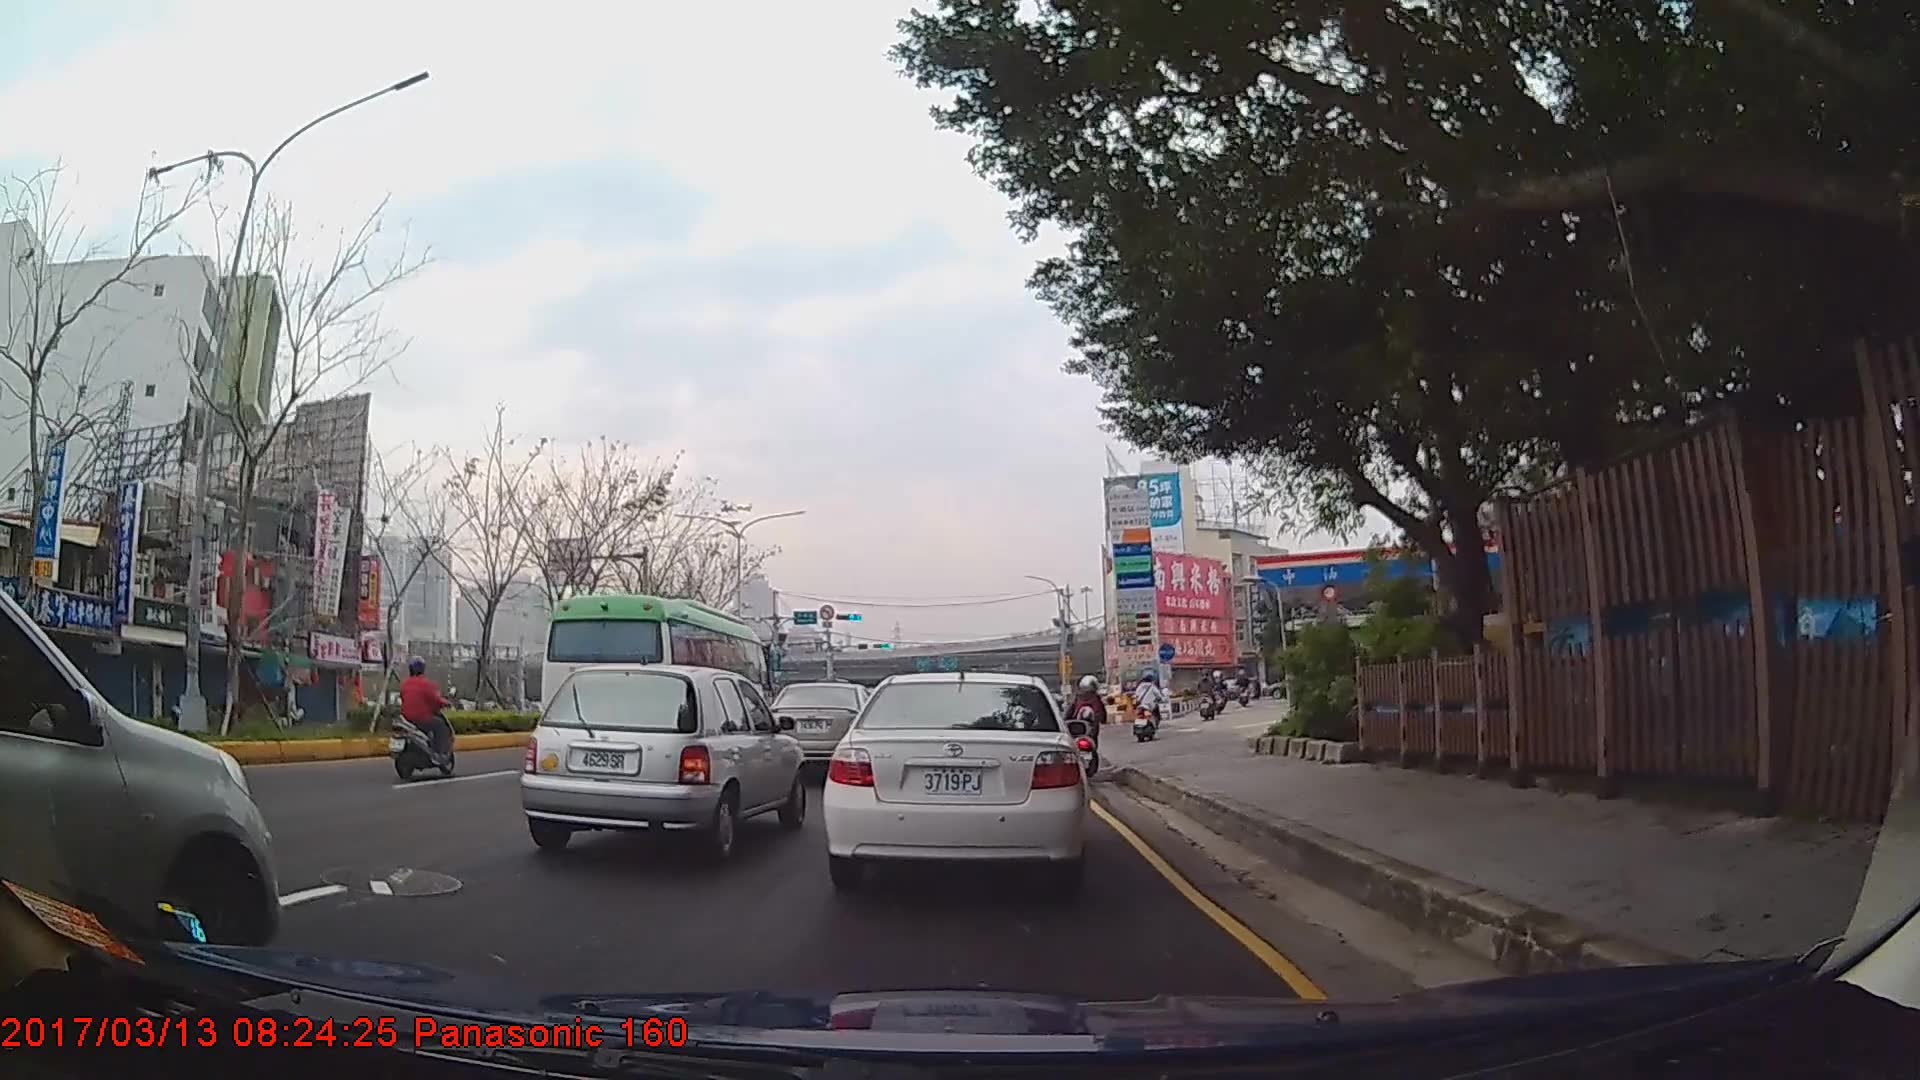rider: (387, 656, 458, 788), (1068, 674, 1111, 779), (1133, 671, 1162, 741), (1198, 670, 1218, 722)
vehicle: (0, 586, 280, 973), (516, 662, 807, 860), (825, 670, 1090, 886), (535, 591, 775, 783), (763, 680, 881, 772)
